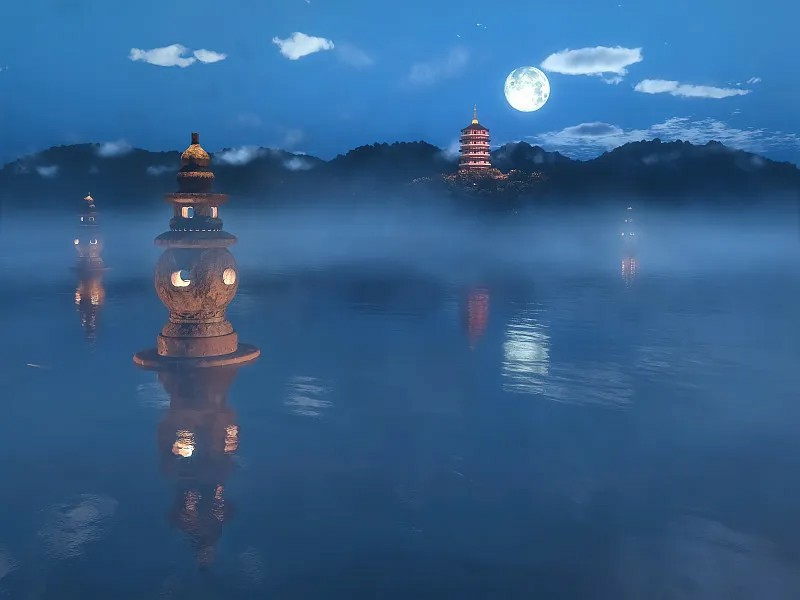Leifeng: (457, 103, 494, 177)
